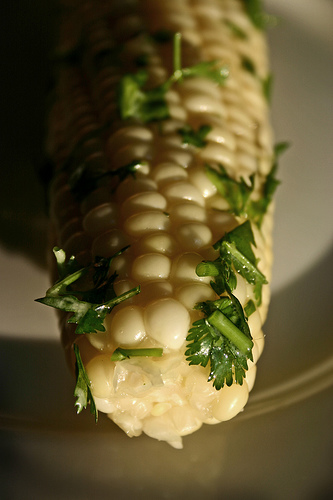corn: (51, 0, 277, 443)
